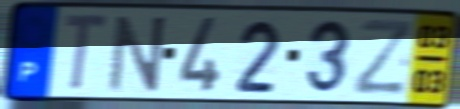2: (230, 13, 287, 97)
3: (302, 17, 355, 97)
4: (175, 14, 223, 95)
N: (107, 14, 170, 95)
T: (61, 10, 111, 95)
Z: (351, 16, 416, 97)
